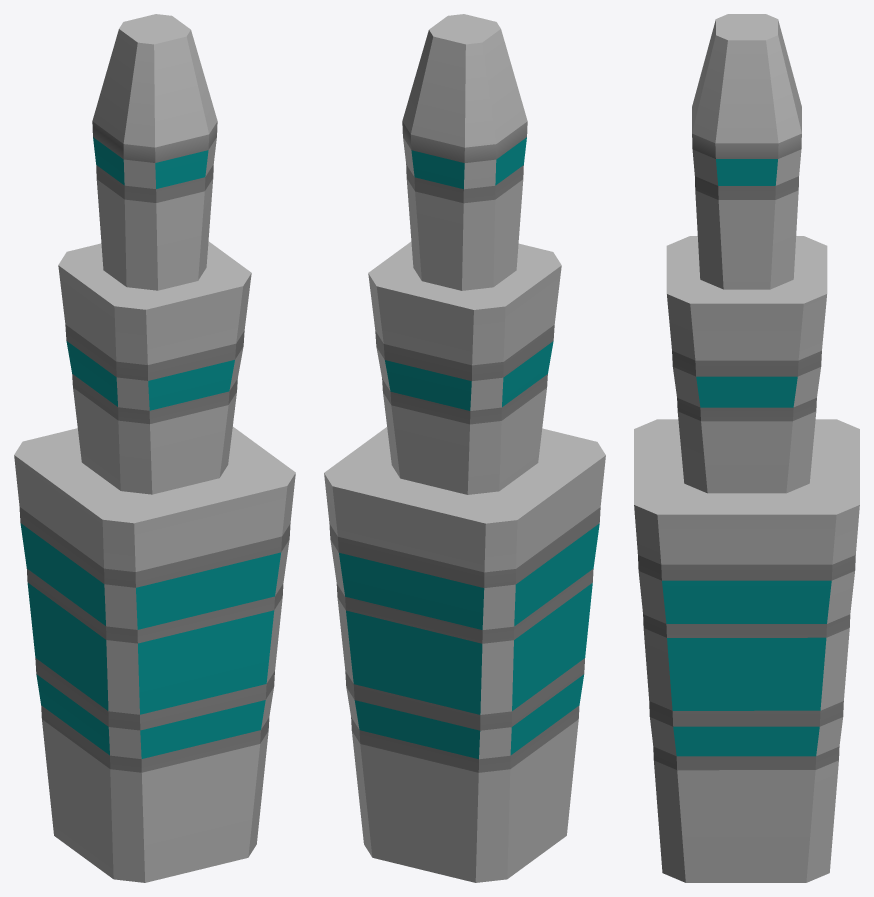
File: BuildingThree.fbx
3 renders of one model, left to right at view 1: azimuth 30°, elevation 25°; view 2: azimuth 150°, elevation 25°; view 3: azimuth 270°, elevation 25°, orthographic.
Parts seen in each view (by area): view 1: pCube47; view 2: pCube47; view 3: pCube47.
Boxes of the visible parts, left/top/right/bottom form: pCube47: left=14, top=14, right=295, bottom=882; pCube47: left=324, top=14, right=605, bottom=882; pCube47: left=634, top=14, right=859, bottom=882.
Size of the model in its own units: 1.35 by 5.41 by 1.35.
